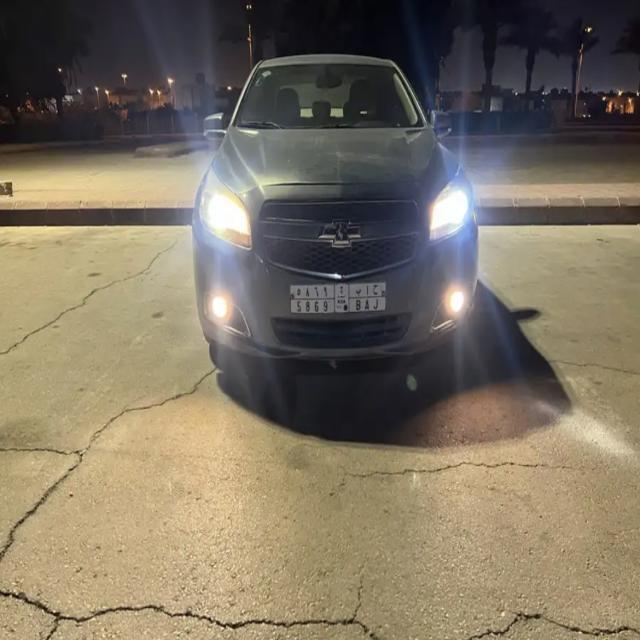license_plate: (285, 280, 394, 314)
